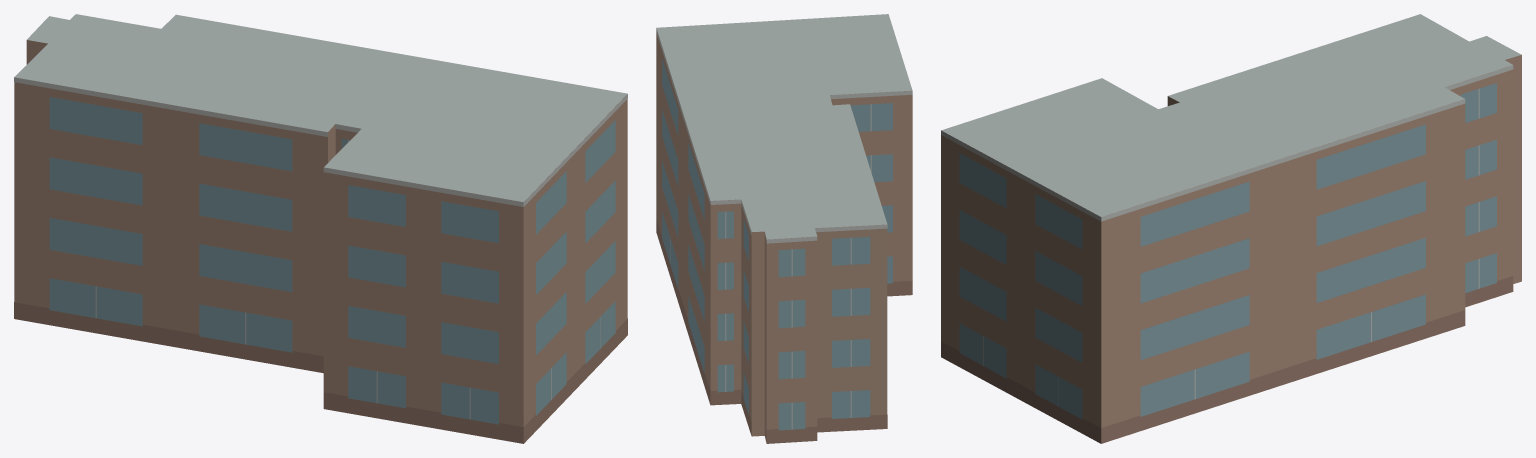
File: survey-upis-32668192.glb
3 renders of one model, left to right at view 1: azimuth 30°, elevation 25°; view 2: azimuth 150°, elevation 25°; view 3: azimuth 270°, elevation 25°, orthographic. The views are drawn at different scales.
Parts seen in each view (by area): view 1: survey-upis-32668192.tmp; view 2: survey-upis-32668192.tmp; view 3: survey-upis-32668192.tmp.
Part boxes in pixels (x1,y1,x2,y2): survey-upis-32668192.tmp: (14, 14, 627, 443); survey-upis-32668192.tmp: (656, 14, 912, 443); survey-upis-32668192.tmp: (941, 14, 1521, 443).
Bounding box in the file's own units: 23.44 × 12.2 × 28.32.
